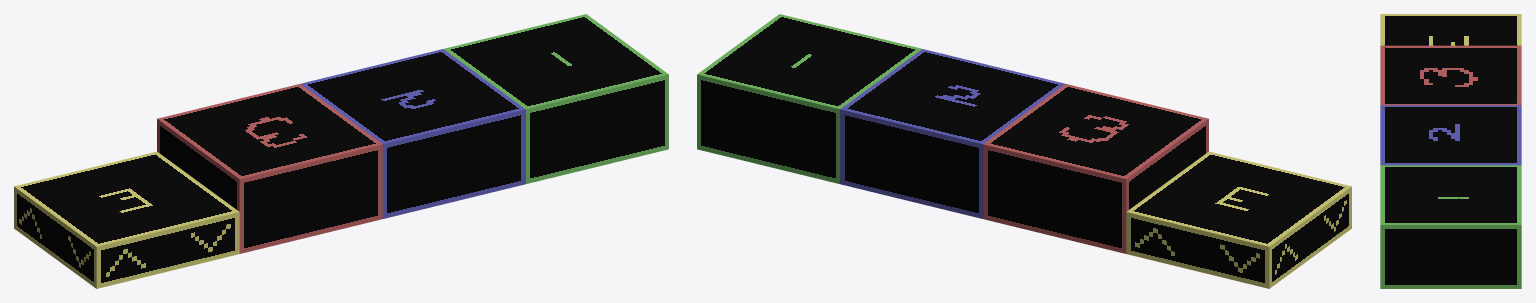
Rendered from LIB_MovementGridSimplification.gltf.
3 views of the same model, side by side, from view 1: azimuth 30°, elevation 25°; view 2: azimuth 150°, elevation 25°; view 3: azimuth 270°, elevation 25° (orthographic). The views are drawn at different scales.
Visible parts, largest first — view 1: 1.1_W3, 1.1_W2, 1.1_W1, 1.2_ElevationChange; view 2: 1.1_W3, 1.1_W2, 1.1_W1, 1.2_ElevationChange; view 3: 1.1_W1, 1.1_W2, 1.1_W3, 1.2_ElevationChange.
Boxes of the visible parts, x1=… form: 1.1_W3: x1=157, y1=84, x2=382, y2=253; 1.1_W2: x1=300, y1=49, x2=525, y2=218; 1.1_W1: x1=444, y1=14, x2=668, y2=183; 1.2_ElevationChange: x1=14, y1=151, x2=239, y2=288; 1.1_W3: x1=983, y1=84, x2=1208, y2=253; 1.1_W2: x1=840, y1=49, x2=1065, y2=218; 1.1_W1: x1=697, y1=14, x2=921, y2=183; 1.2_ElevationChange: x1=1126, y1=151, x2=1351, y2=288; 1.1_W1: x1=1380, y1=165, x2=1521, y2=288; 1.1_W2: x1=1380, y1=105, x2=1521, y2=165; 1.1_W3: x1=1380, y1=45, x2=1521, y2=105; 1.2_ElevationChange: x1=1380, y1=14, x2=1521, y2=45.
Bounding box in the file's own units: 8 × 1 × 2.
Materials: 1 (1 with a texture image).
